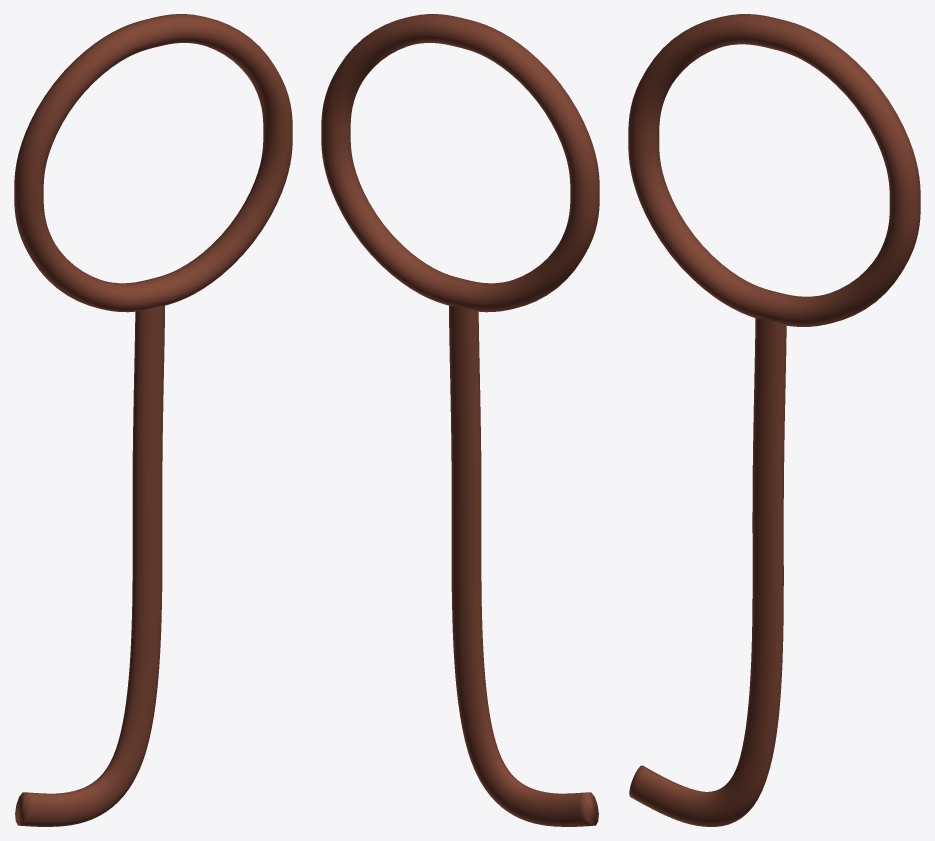
File: WYTRYCH.fbx
3 views of the same model, side by side, from view 1: azimuth 30°, elevation 25°; view 2: azimuth 150°, elevation 25°; view 3: azimuth 330°, elevation 25° (orthographic). The views are drawn at different scales.
Visible parts, largest first — view 1: NurbsCircle; view 2: NurbsCircle; view 3: NurbsCircle.
Part boxes in pixels (x1,y1,x2,y2): NurbsCircle: (14, 14, 292, 826); NurbsCircle: (321, 14, 599, 826); NurbsCircle: (628, 14, 920, 826).
Bounding box in the file's own units: 128 × 351 × 12.77.
